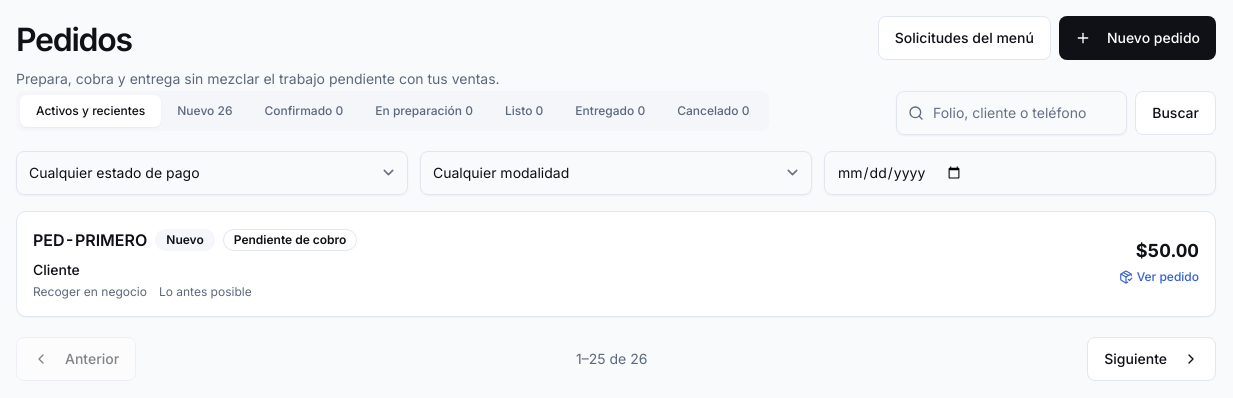
Test: CustomerOrderListView › starts a submitted search on the first page so matching orders remain visible
Expected: the text "PED-PRIMERO" is shown, x1=33 y1=228 x2=147 y2=252
Click the button "Siguiente" at (1152, 359), box x1=1087 y1=337 x2=1216 y2=381
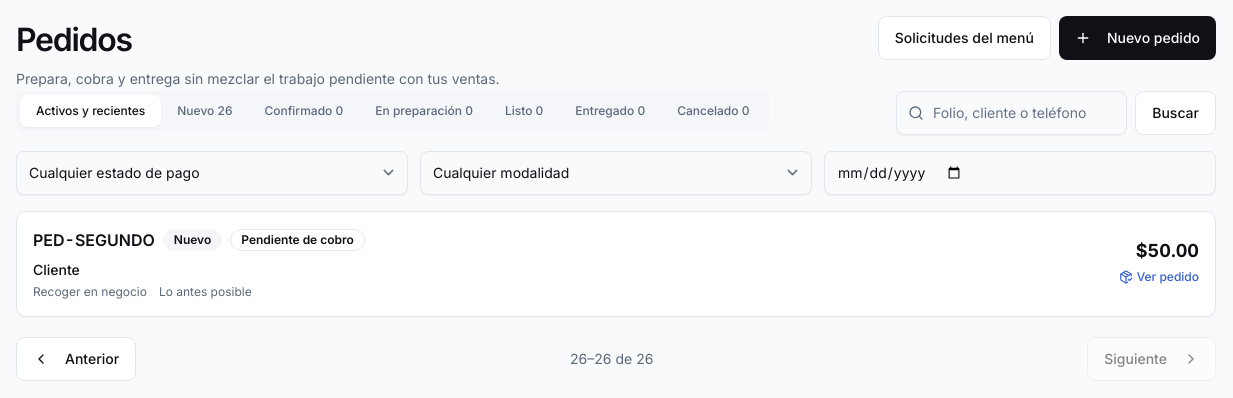
Expected: the text "PED-SEGUNDO" is shown, x1=33 y1=228 x2=155 y2=252
Type "  PED-BUSCADO  " into the field with placeholder "Folio, cliente o teléfono" at (1012, 113), box x1=896 y1=91 x2=1127 y2=135
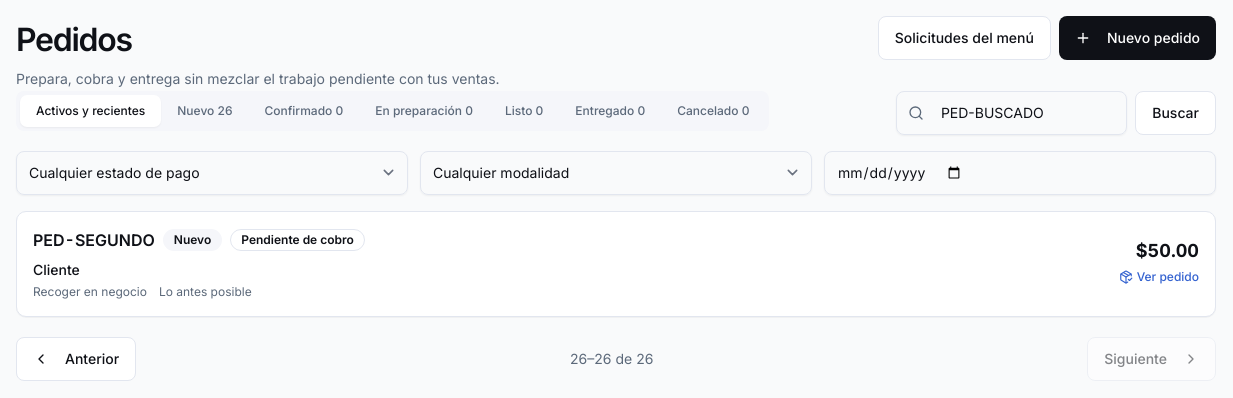
Click the button "Buscar" at (1176, 113), box x1=1135 y1=91 x2=1216 y2=135
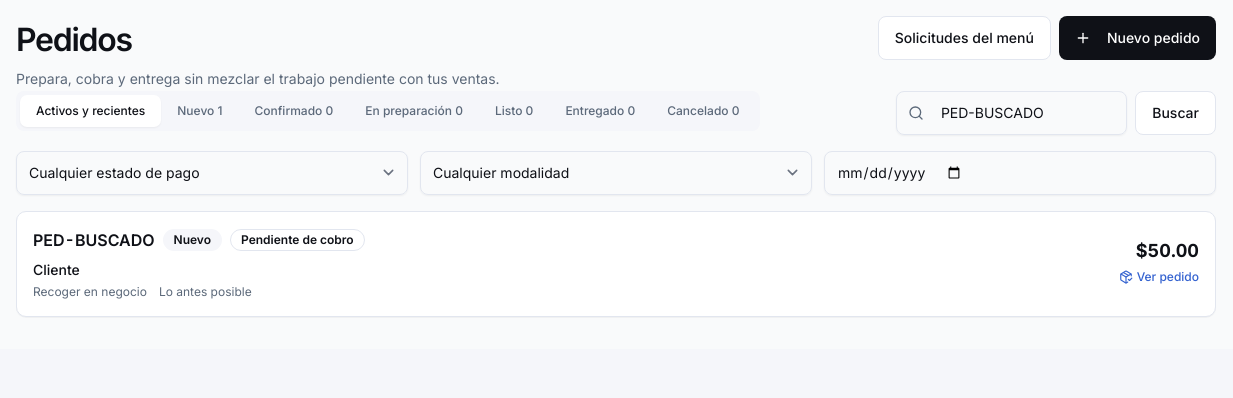
Expected: the text "PED-BUSCADO" is shown, x1=33 y1=228 x2=154 y2=252
